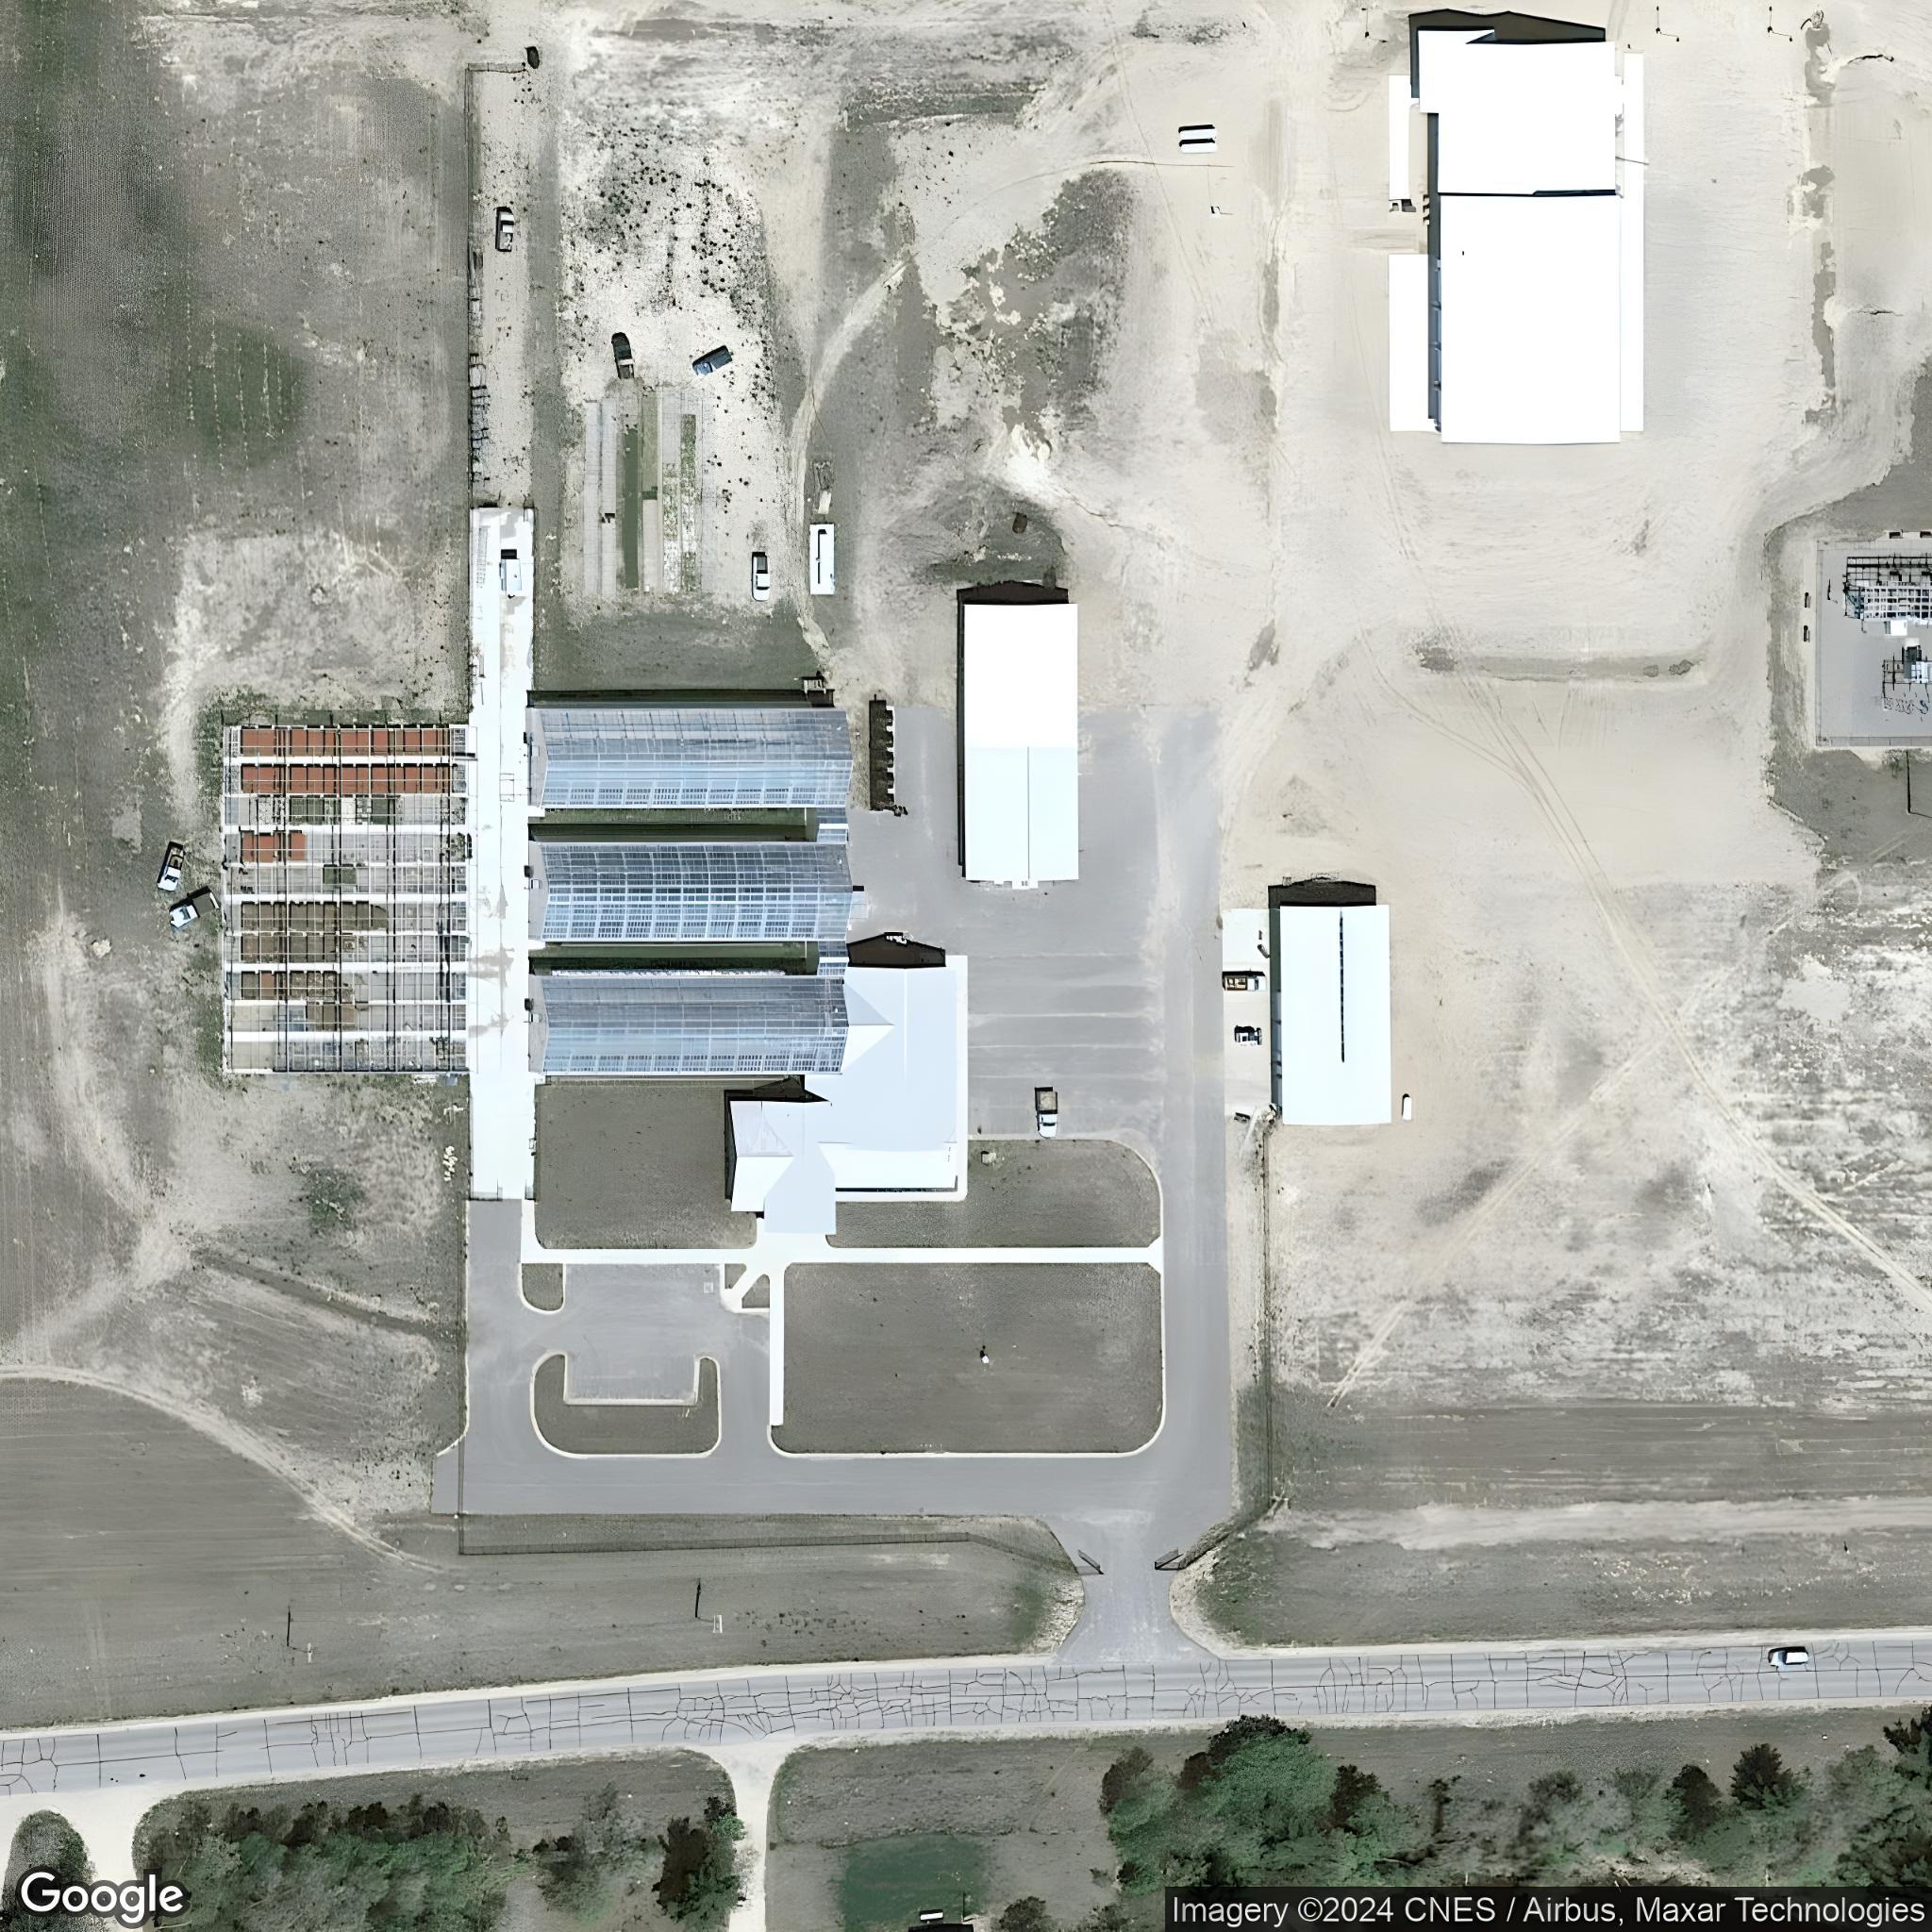Other: (527, 704, 959, 1237), (1414, 27, 1626, 448), (959, 600, 1083, 885), (1277, 902, 1394, 1129)
Propane: (816, 527, 830, 587), (1178, 122, 1219, 140), (1177, 138, 1219, 154), (916, 1907, 947, 1923), (1399, 1092, 1414, 1123)
